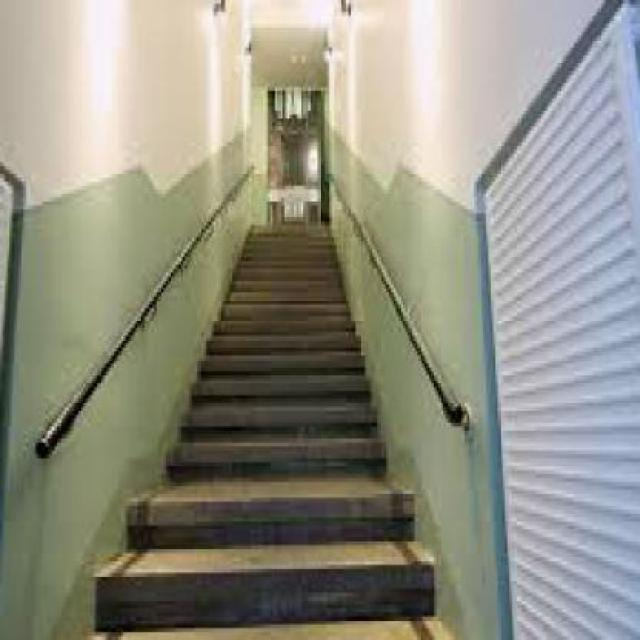stair: (87, 116, 447, 627)
